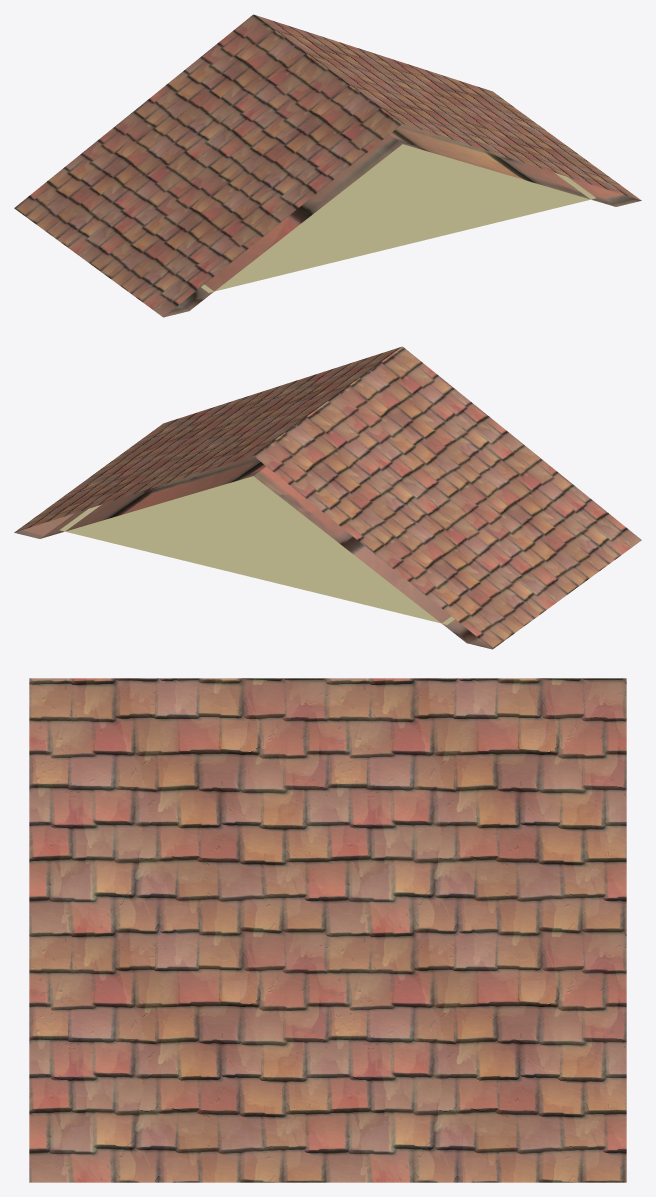
Rendered from roof_6x2x4.fbx.
The picture shows the model from 3 angles, top to bottom: view 1: azimuth 30°, elevation 25°; view 2: azimuth 150°, elevation 25°; view 3: azimuth 270°, elevation 25°; orthographic projection. The views are drawn at different scales.
Parts seen in each view (by area): view 1: roof_6x2x4; view 2: roof_6x2x4; view 3: roof_6x2x4.
Part boxes in pixels (bbox=[...]): roof_6x2x4: bbox=[14, 14, 641, 317]; roof_6x2x4: bbox=[14, 346, 641, 649]; roof_6x2x4: bbox=[29, 678, 626, 1182].
Bounding box in the file's own units: 740 × 200 × 400.
